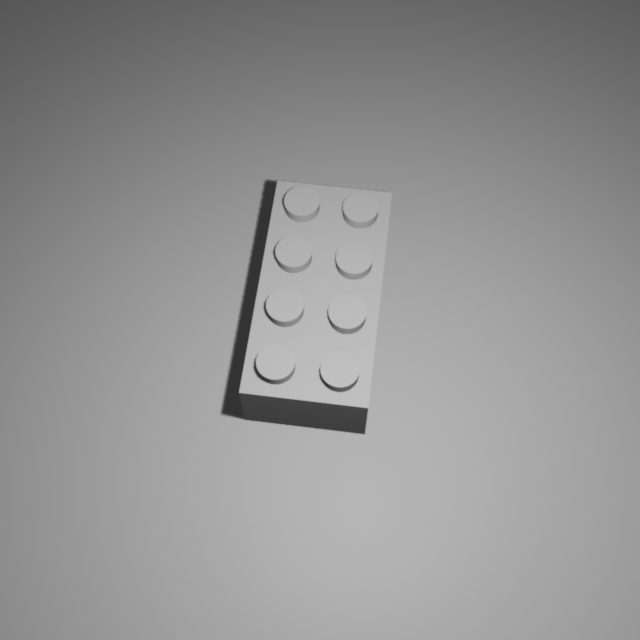lego_2x4: (238, 174, 393, 434)
